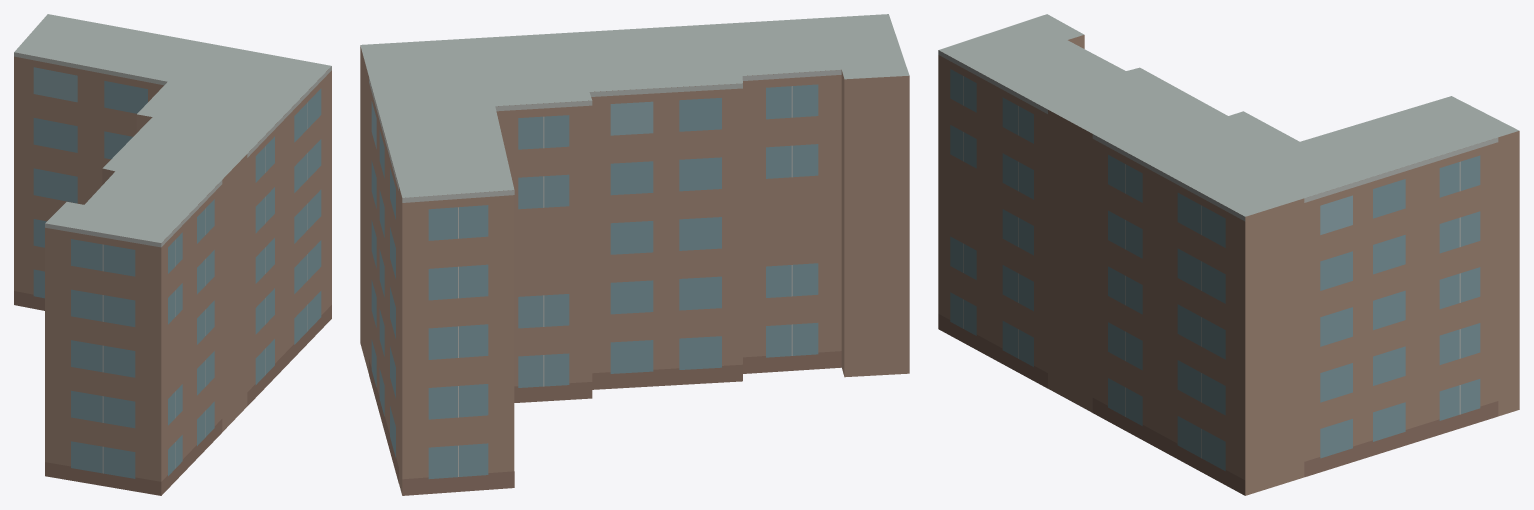
Rendered from survey-upis-32564827.glb.
3 renders of one model, left to right at view 1: azimuth 30°, elevation 25°; view 2: azimuth 150°, elevation 25°; view 3: azimuth 270°, elevation 25°, orthographic. The views are drawn at different scales.
Visible parts, largest first — view 1: survey-upis-32564827.tmp; view 2: survey-upis-32564827.tmp; view 3: survey-upis-32564827.tmp.
Boxes of the visible parts, <box> form: survey-upis-32564827.tmp: <box>14,14,331,495</box>; survey-upis-32564827.tmp: <box>360,14,909,495</box>; survey-upis-32564827.tmp: <box>938,14,1519,495</box>.
Size of the model in its own units: 22.29 by 14.3 by 26.99.
